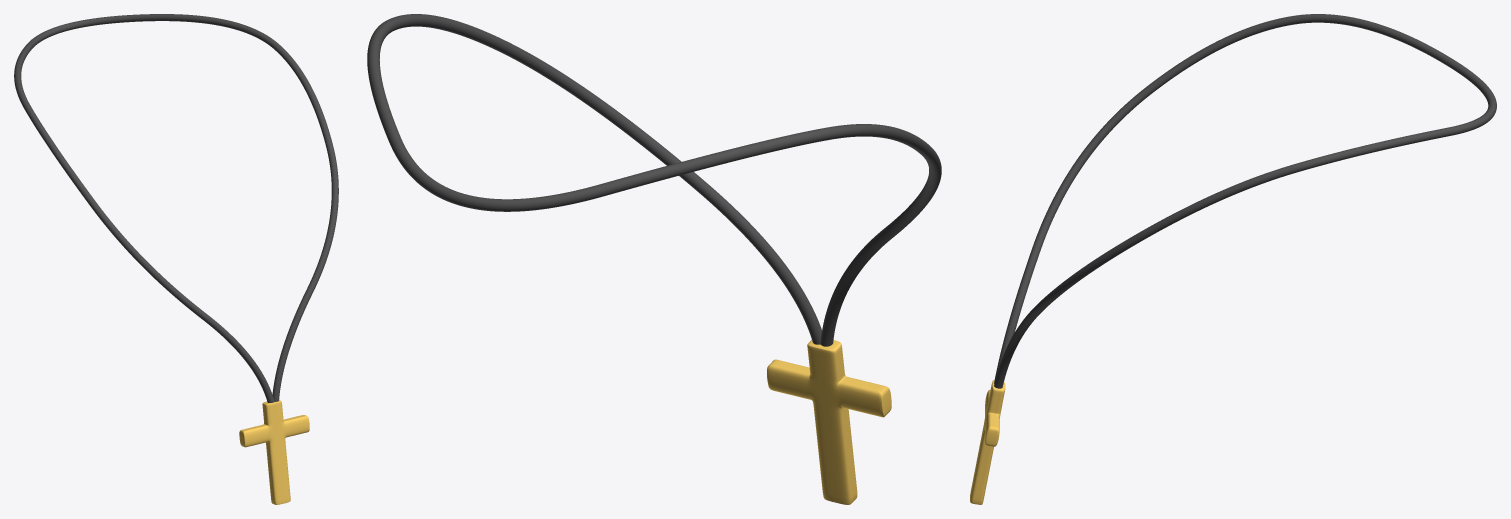
File: Cross.gltf
The picture shows the model from 3 angles, left to right: view 1: azimuth 30°, elevation 25°; view 2: azimuth 150°, elevation 25°; view 3: azimuth 270°, elevation 25°; orthographic projection. The views are drawn at different scales.
Parts seen in each view (by area): view 1: 身体-PBR4_2, 身体-PBR3_1; view 2: 身体-PBR4_2, 身体-PBR3_1; view 3: 身体-PBR4_2, 身体-PBR3_1.
Boxes of the visible parts, bbox=[...] form: 身体-PBR4_2: bbox=[14, 14, 338, 402]; 身体-PBR3_1: bbox=[239, 400, 309, 504]; 身体-PBR4_2: bbox=[367, 14, 941, 346]; 身体-PBR3_1: bbox=[767, 340, 891, 504]; 身体-PBR4_2: bbox=[994, 14, 1496, 388]; 身体-PBR3_1: bbox=[970, 380, 1005, 504].
Size of the model in its own units: 3.36 by 4.2 by 4.81.
